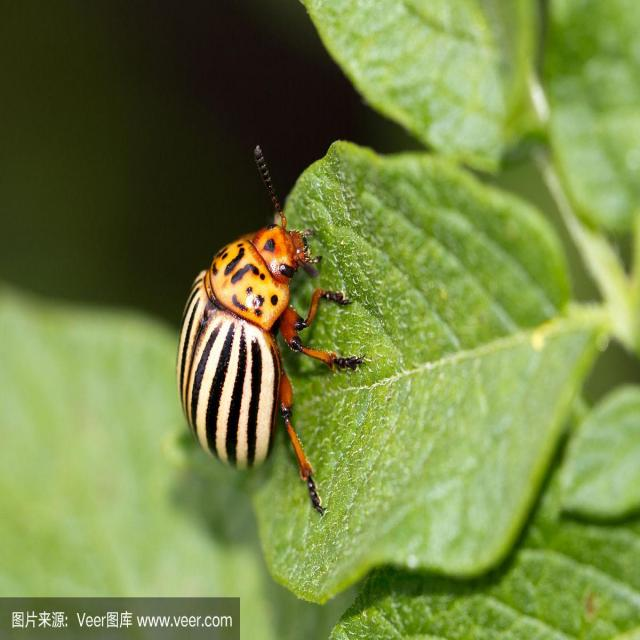ShuCaiHuaBanChong-Grown-: (146, 190, 364, 510)
